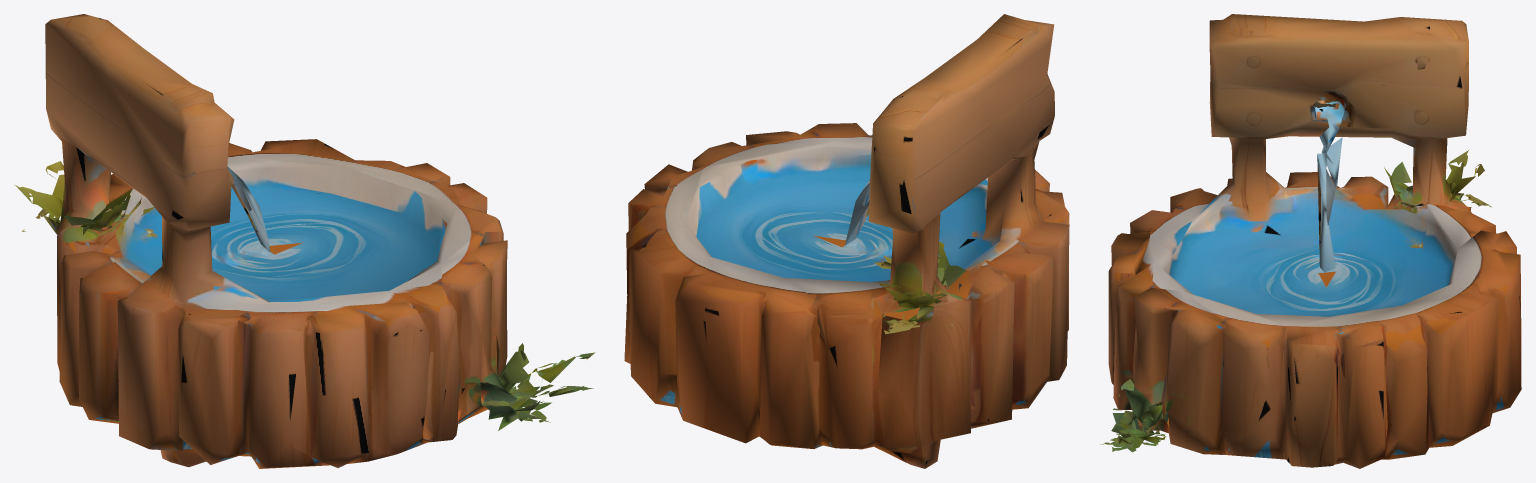
Rendered from water.fbx.
3 views of the same model, side by side, from view 1: azimuth 30°, elevation 25°; view 2: azimuth 150°, elevation 25°; view 3: azimuth 270°, elevation 25° (orthographic). The views are drawn at different scales.
Parts seen in each view (by area): view 1: tripo_node_39cd9df7; view 2: tripo_node_39cd9df7; view 3: tripo_node_39cd9df7.
Part boxes in pixels (bbox=[...]): tripo_node_39cd9df7: bbox=[14, 14, 595, 468]; tripo_node_39cd9df7: bbox=[624, 14, 1069, 468]; tripo_node_39cd9df7: bbox=[1100, 14, 1521, 468].
Size of the model in its own units: 99.62 by 85 by 97.76.
Materials: 1 (1 with a texture image).
